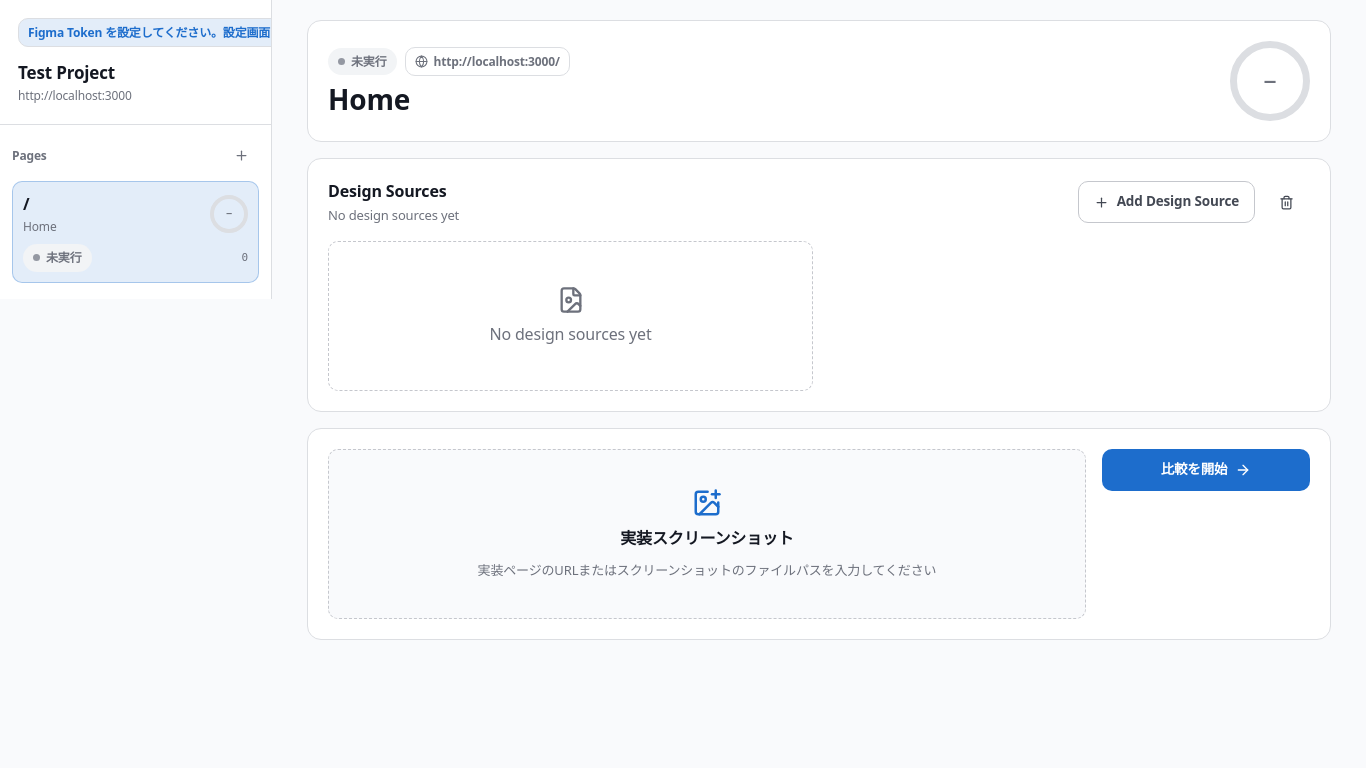
ProjectView › handleAddSource › Add Design Source ボタンでフォームが表示される
Click the button "Add Design Source": [1166, 202] box [1078,181,1255,223]
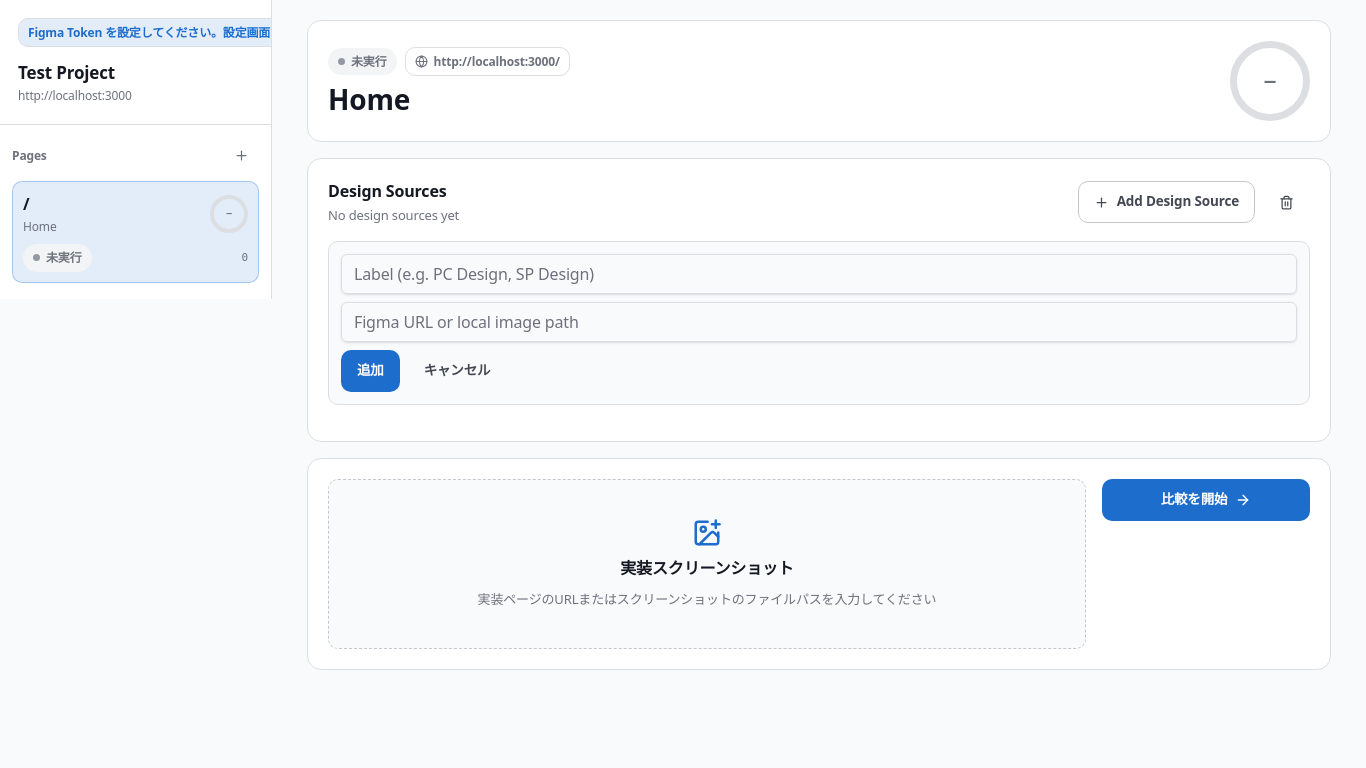
Now the field with placeholder "Figma URL or local image path" is shown, box [341,302,1297,342]
